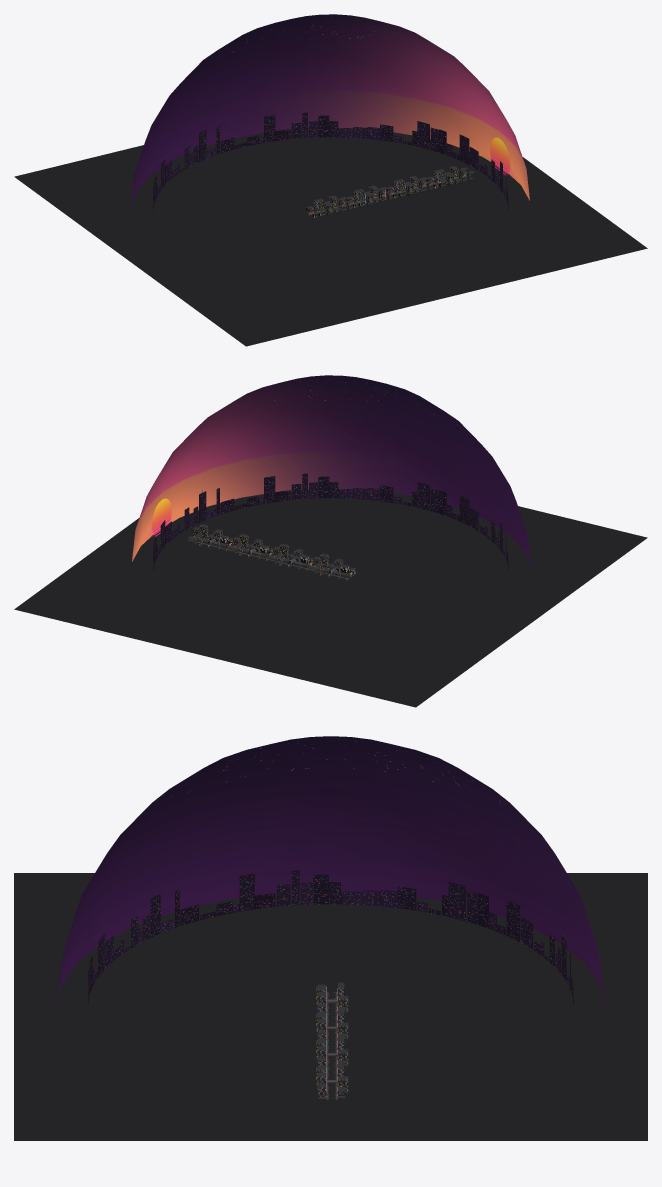
The model's file is route.glb.
The picture shows the model from 3 angles, top to bottom: view 1: azimuth 30°, elevation 25°; view 2: azimuth 150°, elevation 25°; view 3: azimuth 270°, elevation 25°; orthographic projection. The views are drawn at different scales.
Parts seen in each view (by area): view 1: far, city, sun; view 2: far, city, sun; view 3: far, city, road.
Part boxes in pixels (x1,y1,x2,y2): far: (14, 14, 647, 346); city: (306, 166, 474, 219); sun: (490, 137, 513, 177); far: (14, 375, 647, 707); city: (188, 524, 355, 580); sun: (148, 498, 171, 538); far: (14, 736, 647, 1140); city: (316, 982, 348, 1098); road: (328, 992, 335, 1099).
Bounding box in the file's own units: 1200 × 620 × 1200.
Materials: 30 (12 with a texture image).
